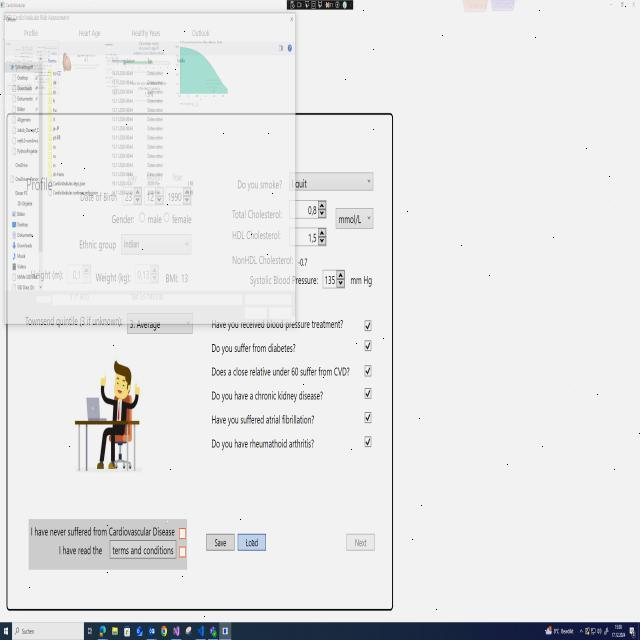button: (108, 540, 177, 561), (237, 529, 271, 557), (203, 528, 236, 554), (345, 529, 378, 555), (629, 0, 639, 11), (618, 0, 627, 11), (607, 0, 616, 10), (289, 14, 295, 25)
checkbox: (362, 434, 373, 452), (178, 544, 189, 562), (178, 523, 188, 542), (362, 337, 373, 354), (361, 387, 373, 402), (362, 362, 372, 380), (362, 316, 373, 332), (362, 410, 370, 429)
dropdownMenu: (286, 169, 376, 194), (125, 311, 196, 337), (119, 234, 192, 256), (334, 206, 376, 235), (554, 627, 583, 636)
icon: (219, 622, 232, 640), (209, 625, 217, 638), (136, 626, 143, 638), (173, 625, 180, 637), (197, 625, 204, 637), (545, 624, 552, 636), (124, 625, 130, 638), (630, 626, 636, 639), (100, 625, 106, 637), (149, 625, 155, 637), (161, 625, 167, 637), (186, 625, 192, 637), (112, 626, 118, 636), (87, 625, 92, 636), (596, 628, 602, 636), (585, 627, 590, 635), (604, 627, 608, 637), (591, 627, 595, 635)
input: (12, 621, 84, 640)
label: (29, 523, 177, 540), (210, 386, 329, 407), (210, 363, 352, 380), (208, 412, 319, 432), (210, 435, 318, 455), (24, 314, 124, 334), (210, 338, 304, 358), (229, 203, 283, 226), (229, 253, 309, 268), (248, 272, 318, 289), (234, 173, 284, 196), (229, 226, 283, 244), (53, 542, 106, 560), (76, 234, 116, 253), (78, 187, 115, 205), (95, 269, 132, 285), (349, 268, 374, 290), (163, 270, 190, 286), (32, 269, 64, 281)
menu: (0, 622, 640, 640)
radio: (137, 208, 145, 228), (162, 210, 170, 226)
upDown: (288, 196, 328, 222), (287, 227, 328, 250), (66, 261, 93, 285), (322, 267, 346, 293), (136, 262, 160, 285), (145, 182, 166, 208), (166, 185, 193, 205), (122, 182, 144, 206)
